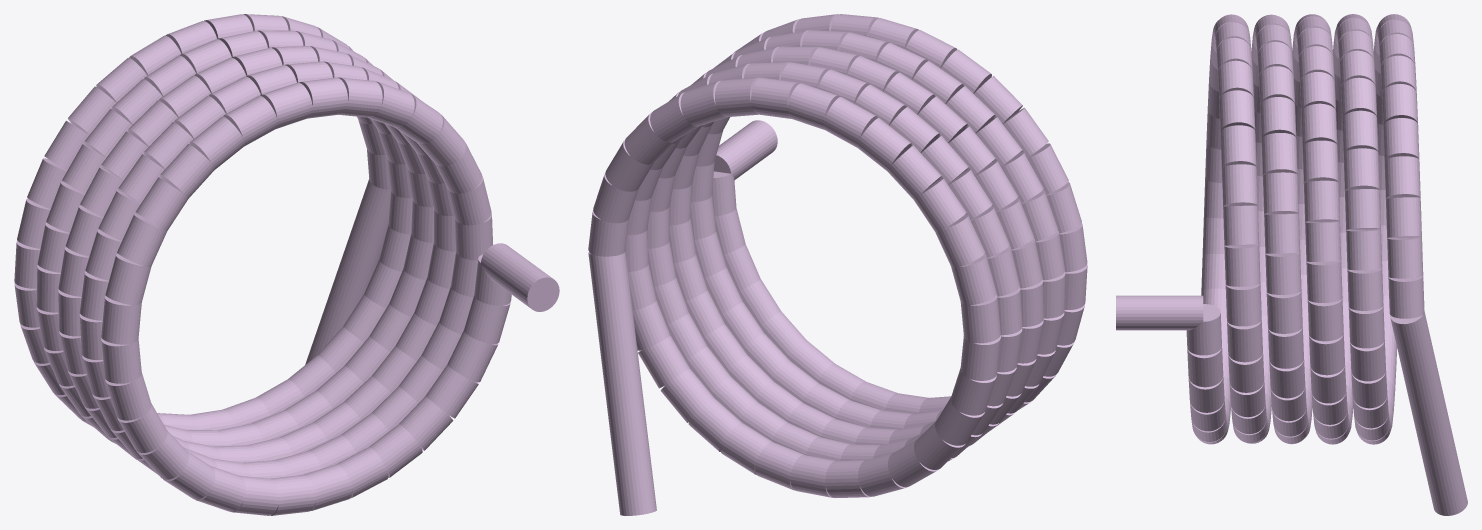
The model's file is torsion_spring_demo.glb.
3 renders of one model, left to right at view 1: azimuth 30°, elevation 25°; view 2: azimuth 150°, elevation 25°; view 3: azimuth 270°, elevation 25°, orthographic. The views are drawn at different scales.
Visible parts, largest first — view 1: torsion_spring; view 2: torsion_spring; view 3: torsion_spring.
Part boxes in pixels (<box>): torsion_spring: <box>14,14,559,515</box>; torsion_spring: <box>588,14,1087,515</box>; torsion_spring: <box>1116,14,1467,515</box>.
Bounding box in the file's own units: 14.8 × 15.8 × 12.09.
